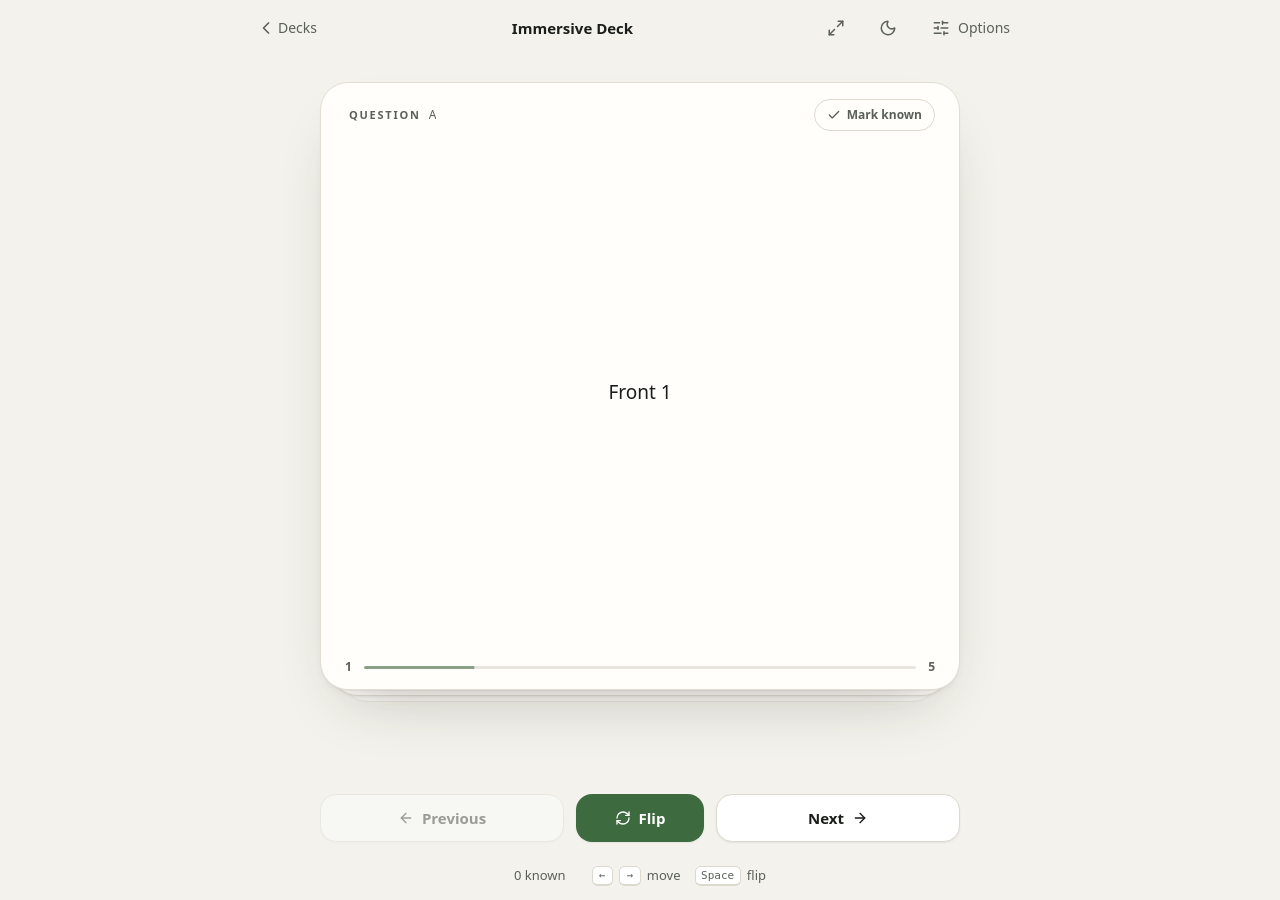
Test case: immersive mode › is left from Study options, restoring the normal controls
The width and height of the screenshot is (1280, 900).
Click the button named "Full screen".
click(836, 28)  # box [814,6,858,50]
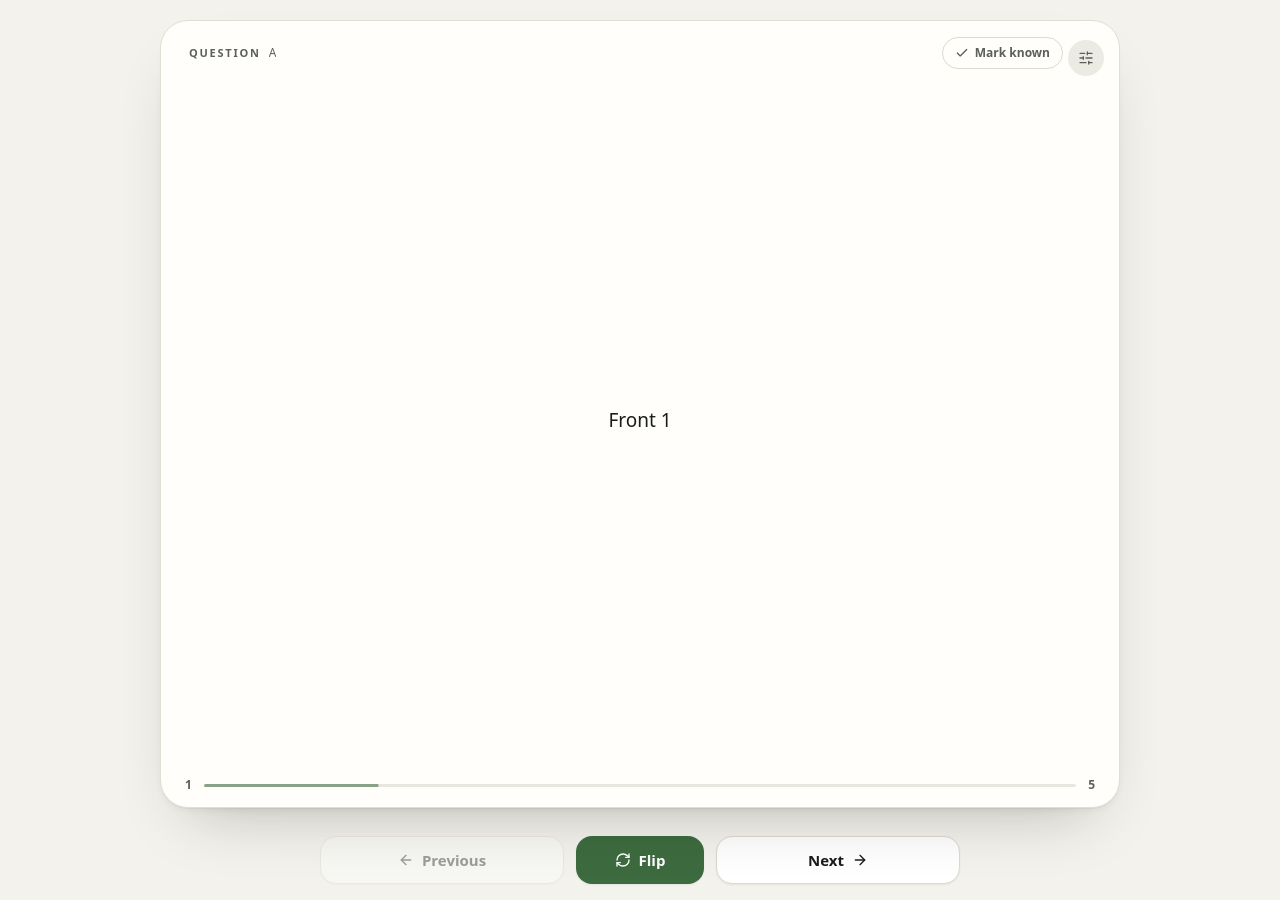
Click the button named "Study options".
click(1086, 58)  # box [1064,36,1108,80]
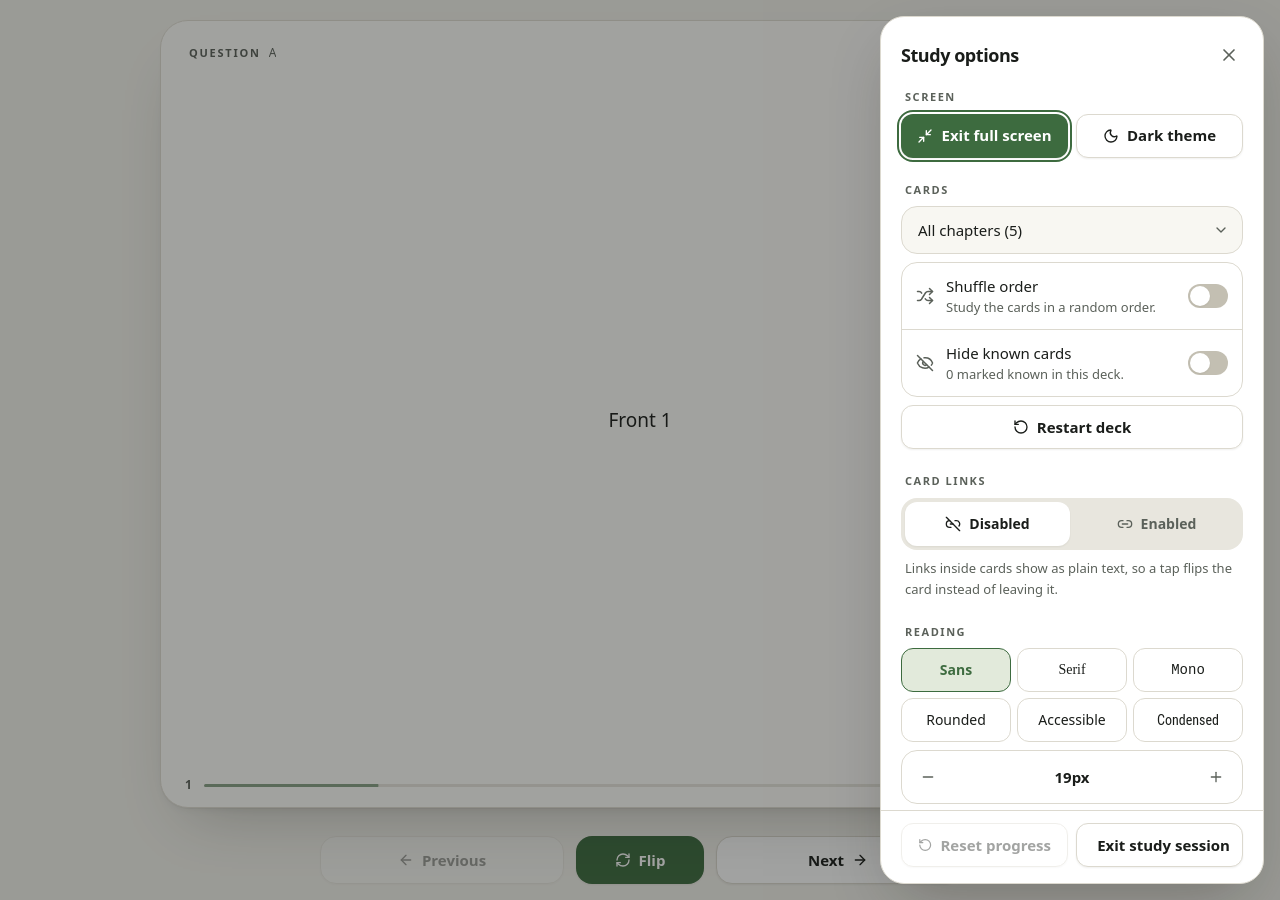
Press Enter
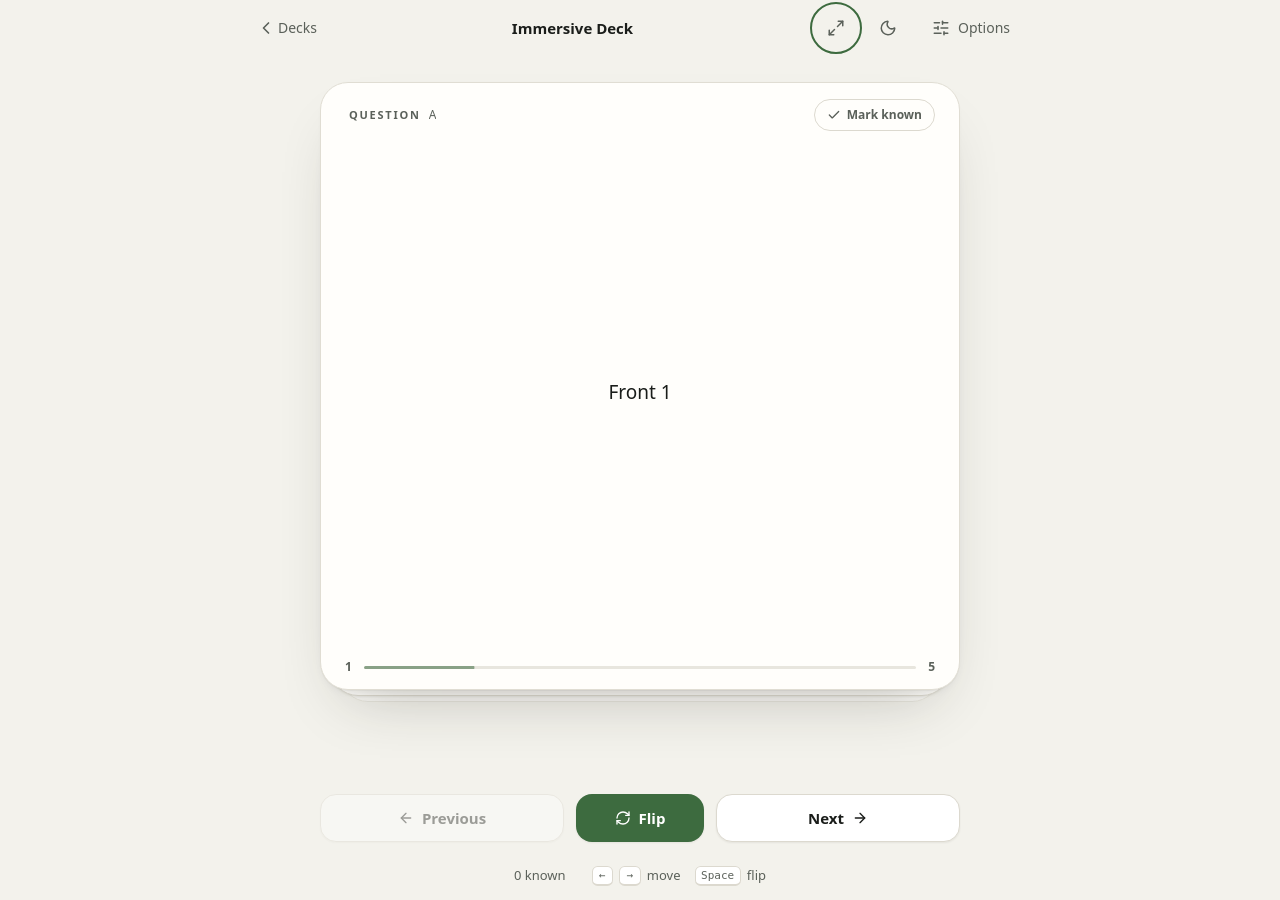
expect the header is shown: met, box [256,0,1024,58]
expect the heading titled "Immersive Deck" is shown: met, box [512,18,633,38]
expect the button with aria-label "Back to your decks" is shown: met, box [250,6,331,50]
